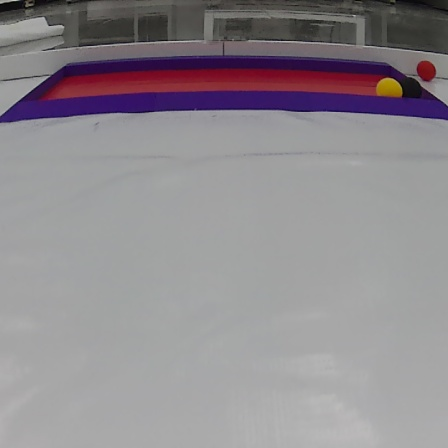black: (401, 75, 424, 102)
red: (412, 61, 439, 82)
red_aim: (5, 56, 437, 120)
yellow: (376, 76, 401, 100)
